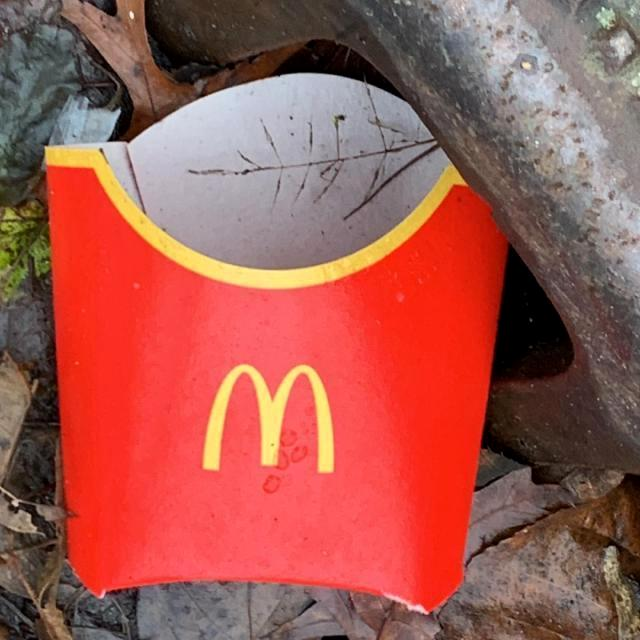Paper: (41, 64, 513, 618)
